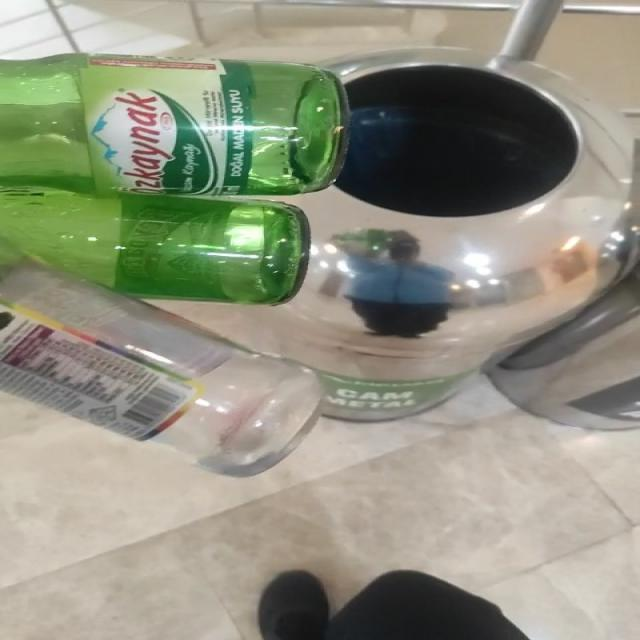glass: (3, 52, 347, 476)
